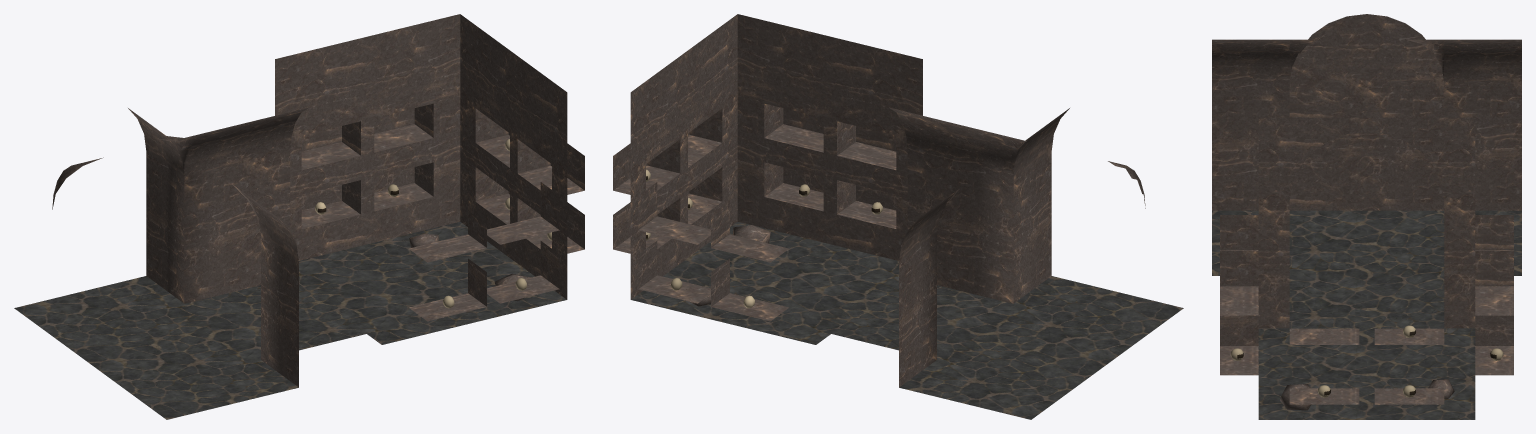
File: hall-side-room.c42230a9.gltf
The picture shows the model from 3 angles, left to right: view 1: azimuth 30°, elevation 25°; view 2: azimuth 150°, elevation 25°; view 3: azimuth 270°, elevation 25°; orthographic projection.
Visible parts, largest first — view 1: hall-side-room-mesh, hall-side-room-bones; view 2: hall-side-room-mesh, hall-side-room-bones; view 3: hall-side-room-mesh, hall-side-room-bones.
Part boxes in pixels (x1,y1,x2,y2): hall-side-room-mesh: (14,14,584,419); hall-side-room-bones: (315,139,551,308); hall-side-room-mesh: (613,14,1183,419); hall-side-room-bones: (646,169,882,308); hall-side-room-mesh: (1212,14,1521,419); hall-side-room-bones: (1230,325,1503,410).
Bounding box in the file's own units: 6.9 × 3.09 × 4.
3 materials, 2 textured.
